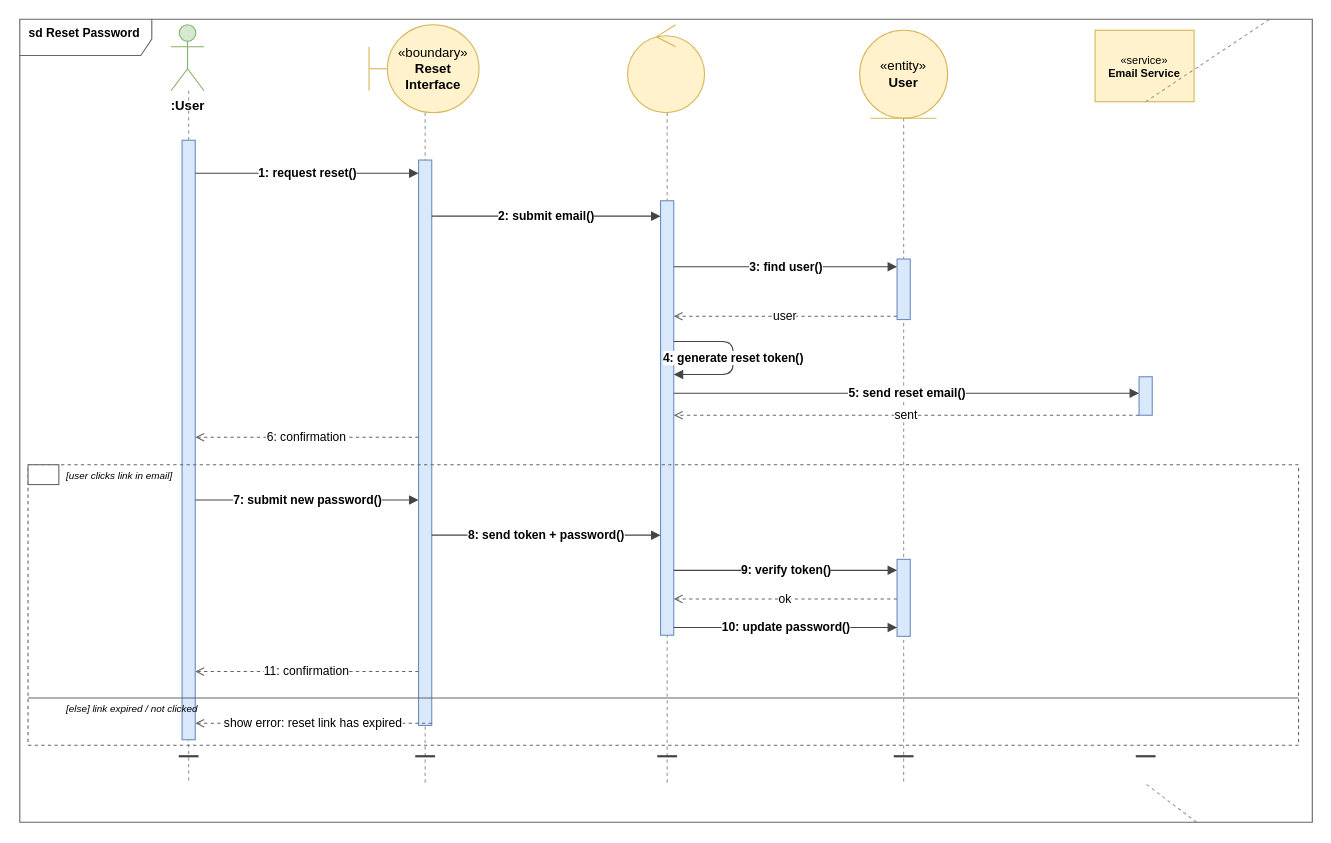
Some shapes in this 1331 by 843 pixel diagram are drawn without their labels. Each missing label, with the centre of its shape:
"alt" belongs at point 43,474.
"Auth Controller" belongs at point 665,68.
